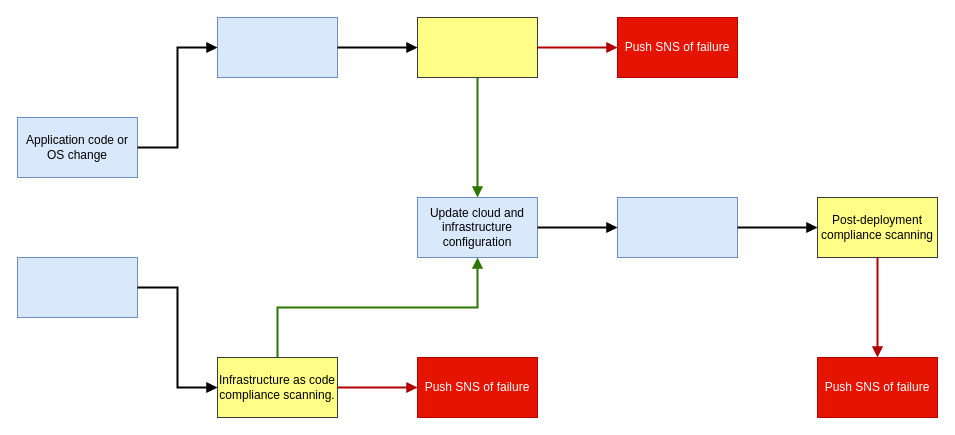
The diagram is 955 pixels wide and 435 high, and some of its shapes have lost their labels. The shapes that lost their labels are listed below. From the top down, each one's centre as x and y in pixels, then its label:
point (277, 47): Build application container or OS image
point (477, 47): AMI or container image scanning.
point (677, 227): Deploy cloud configuration or application to environment
point (77, 287): Infrastructure code change
